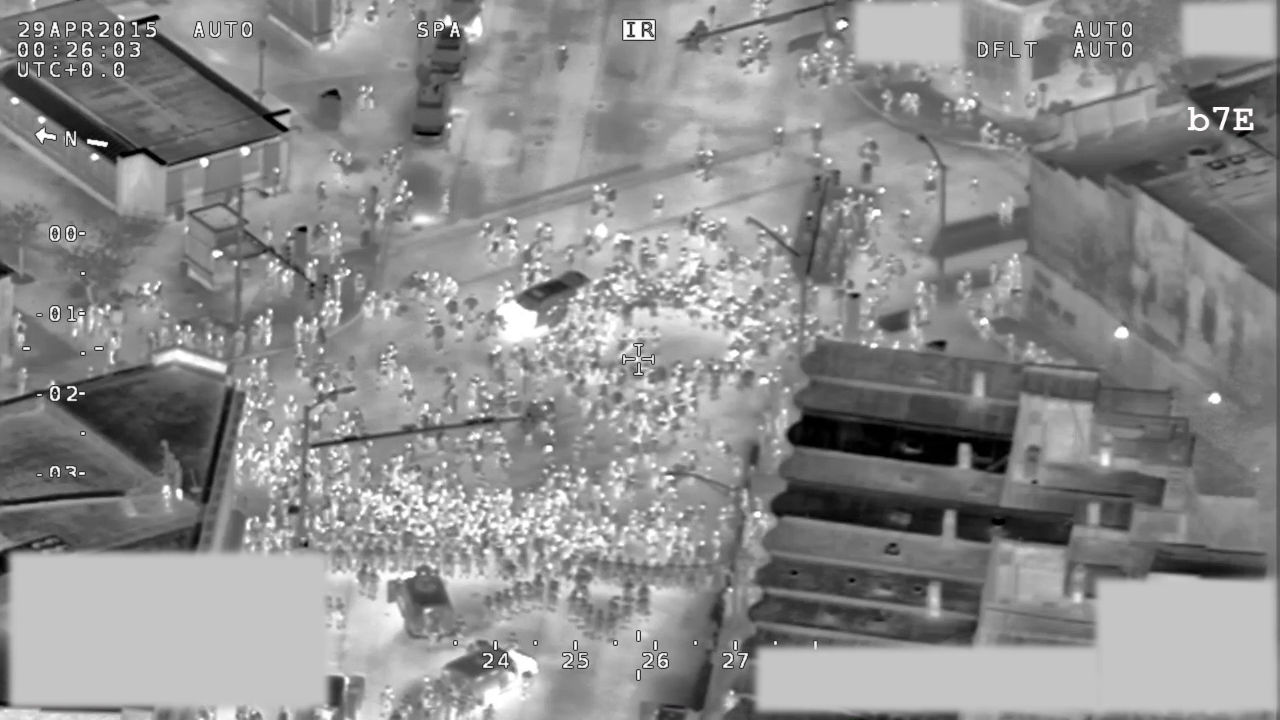vehicle: (431, 634, 542, 718), (490, 266, 596, 343), (388, 557, 458, 644), (407, 61, 459, 149), (428, 25, 467, 77)
